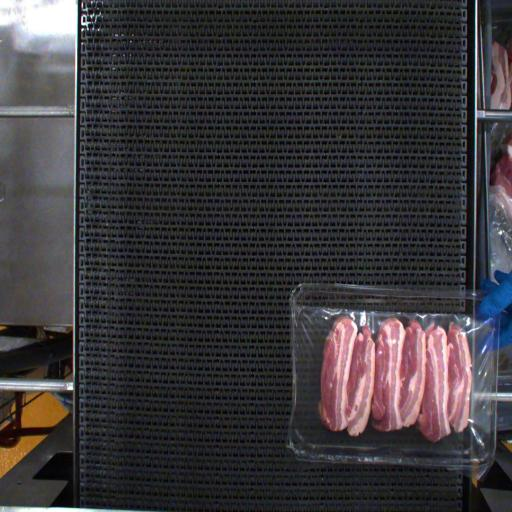unsealed: (294, 307, 478, 456)
